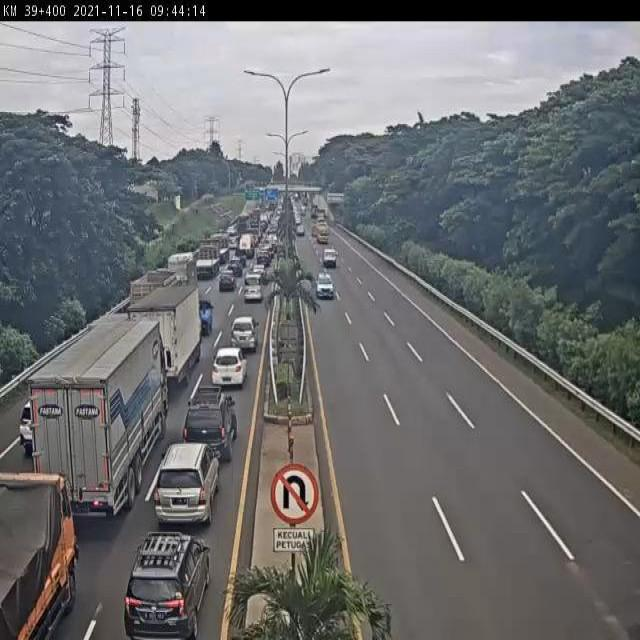car: (117, 528, 221, 640), (148, 447, 223, 525), (182, 384, 251, 453), (207, 347, 250, 384), (228, 312, 265, 351), (217, 266, 242, 298), (246, 271, 269, 304), (314, 268, 333, 307), (320, 246, 342, 266)
truck-l-: (26, 322, 168, 509), (194, 244, 220, 277), (209, 235, 231, 261)
truck-m-: (0, 469, 73, 640), (128, 286, 203, 390), (130, 272, 182, 335), (167, 250, 196, 290)
